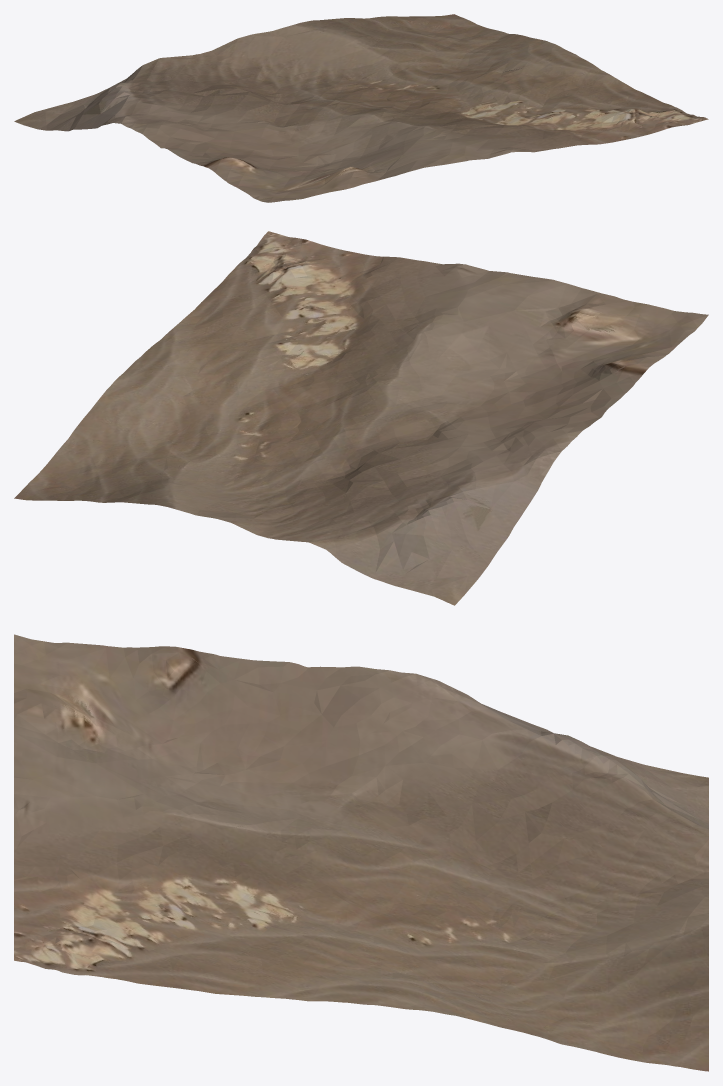
3 views of the same model, one above another, from view 1: azimuth 30°, elevation 25°; view 2: azimuth 150°, elevation 25°; view 3: azimuth 270°, elevation 25° (orthographic). The views are drawn at different scales.
Bounding box in the file's own units: 1.04 × 0.2378 × 1.04.
Materials: 2 (2 with a texture image).
